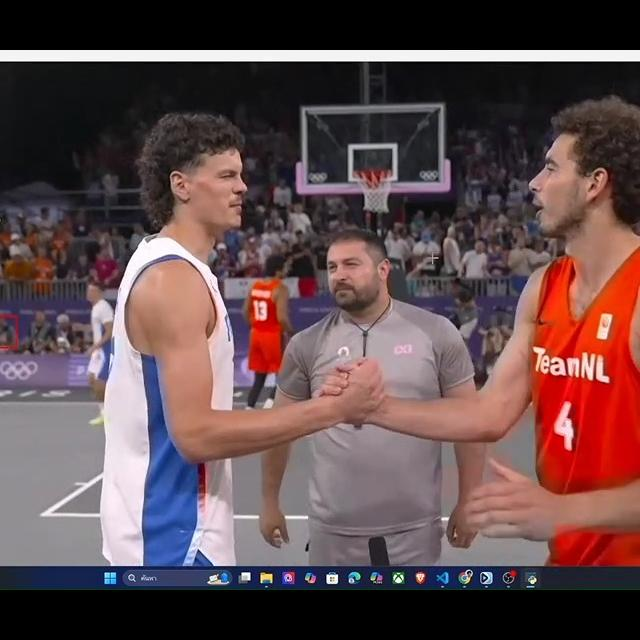hoop: (357, 170, 394, 213)
